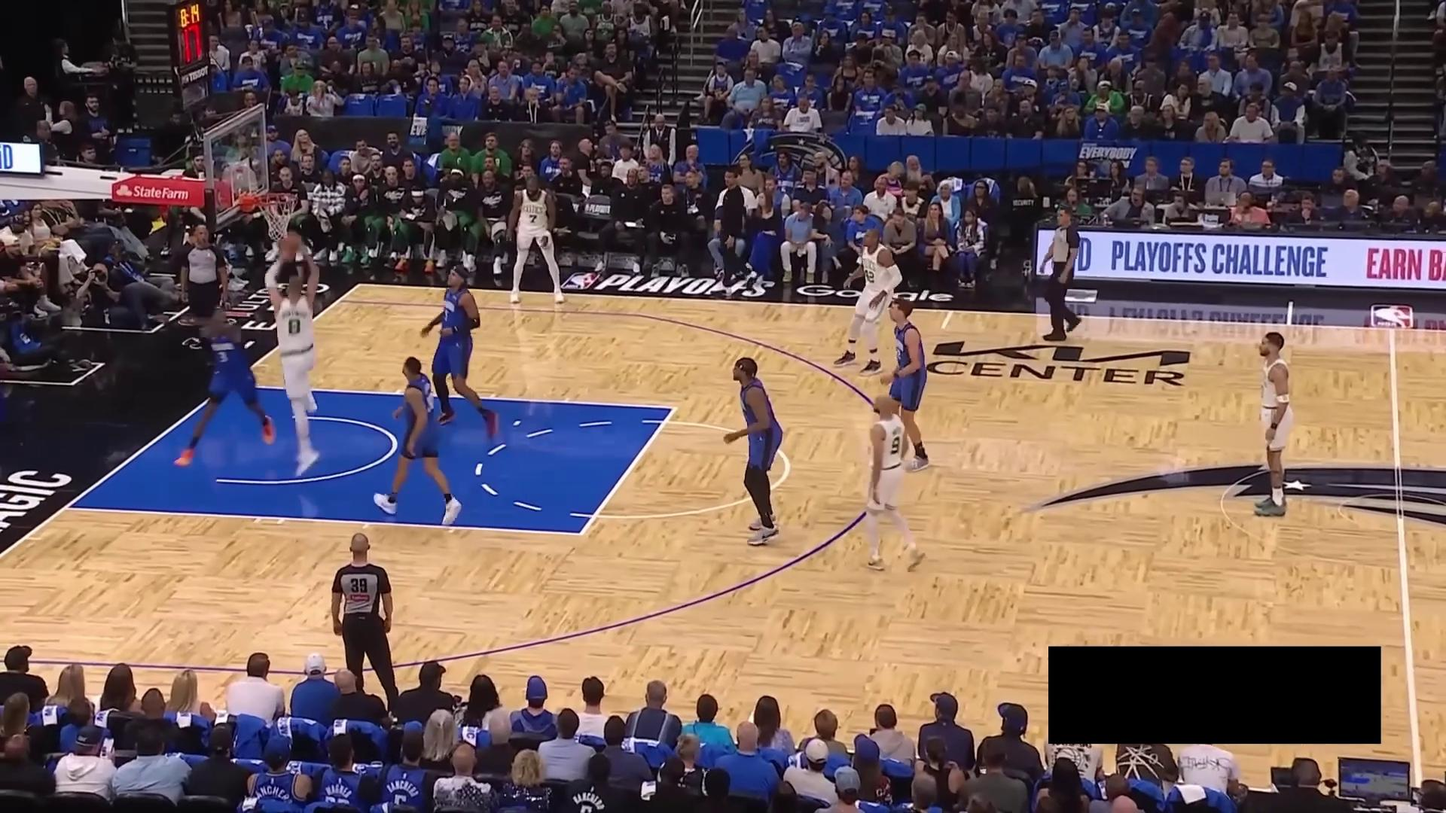ball: (278, 233, 304, 261)
number: (284, 315, 303, 337), (891, 437, 903, 458), (862, 267, 875, 283), (218, 350, 228, 364), (529, 214, 537, 223)
player: (174, 301, 280, 472), (376, 353, 465, 526), (721, 354, 792, 554), (418, 266, 497, 445), (857, 387, 926, 579), (831, 225, 909, 380), (882, 295, 937, 481), (1251, 326, 1302, 521), (506, 173, 568, 307)
player-layup-dunk: (265, 230, 321, 478)
referee: (329, 533, 401, 703), (1029, 199, 1089, 342), (173, 220, 236, 330)
rim: (252, 188, 300, 209)
